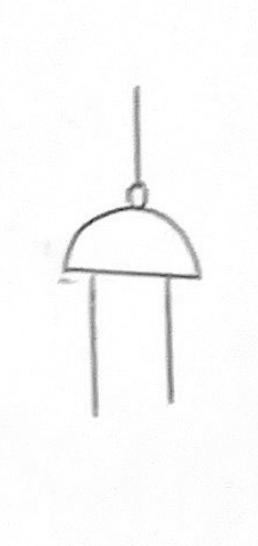NAND: (47, 172, 230, 310)
